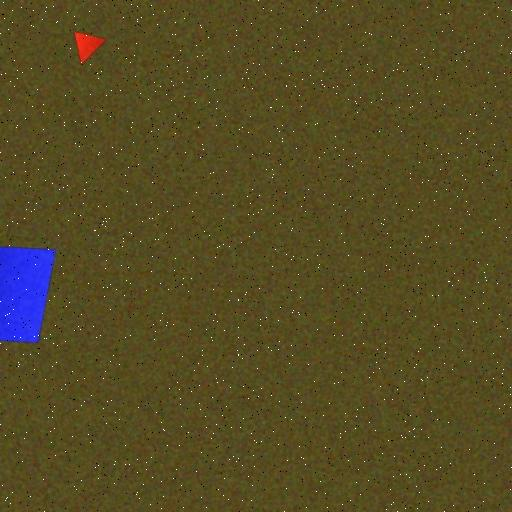BLUE_SQUARE: (0, 244, 56, 344)
